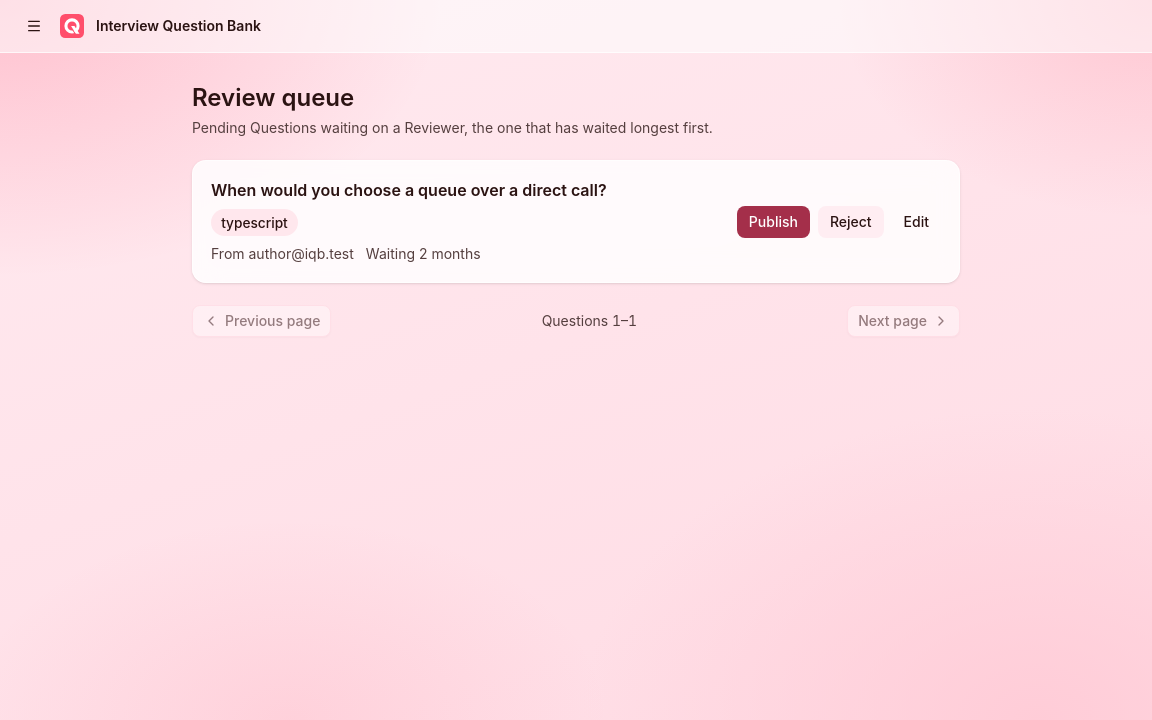
Scenario: publishing from the review queue › reports a permission refusal as the API words it
This screenshot has width=1152, height=720.
Click the button "Publish". click: [773, 222]
box: [737, 206, 810, 238]
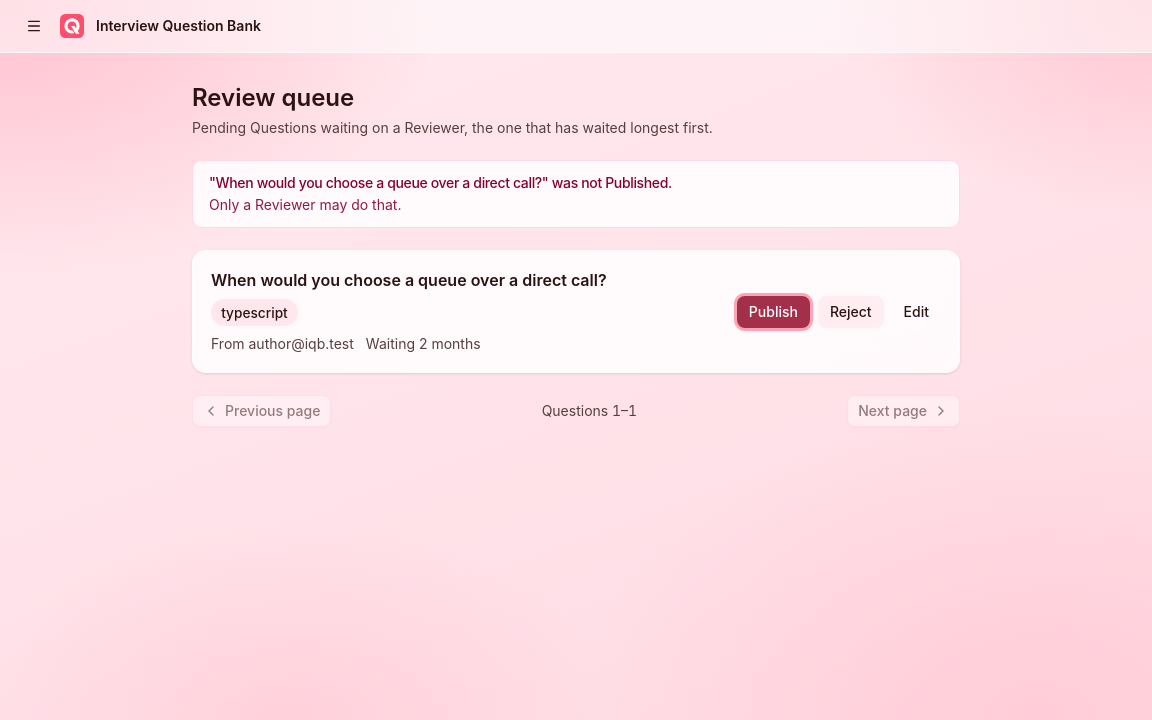
Expected: the link "When would you choose a queue over a direct call?" is shown, [211, 270, 607, 290]
Expected: the text "Only a Reviewer may do that." is shown, [209, 196, 402, 213]
